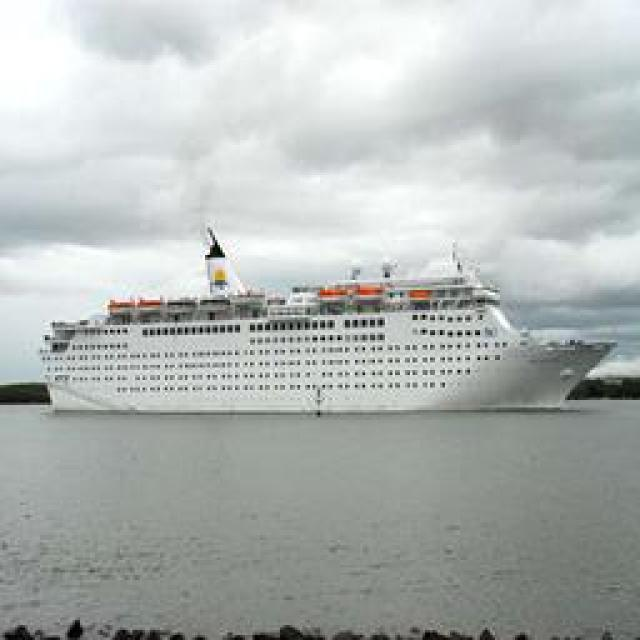CIV_Ship: (28, 246, 622, 419)
